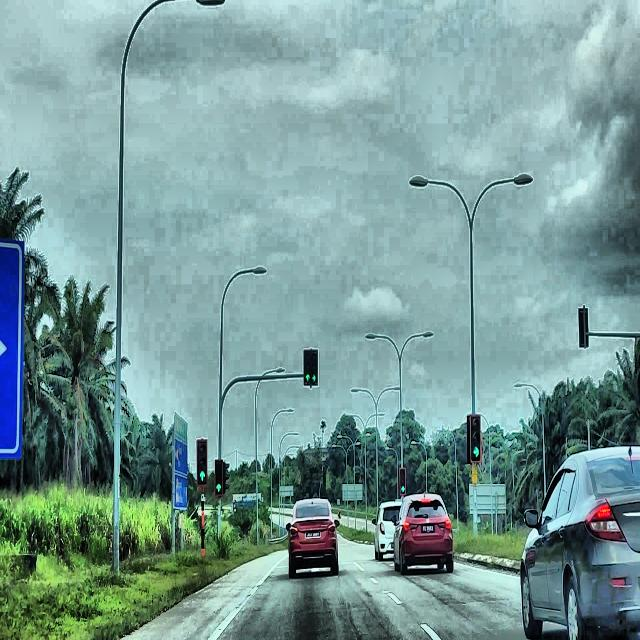green: (470, 414, 481, 462), (197, 439, 207, 485), (303, 349, 311, 386), (310, 349, 318, 385), (215, 459, 223, 494), (399, 467, 405, 494)
